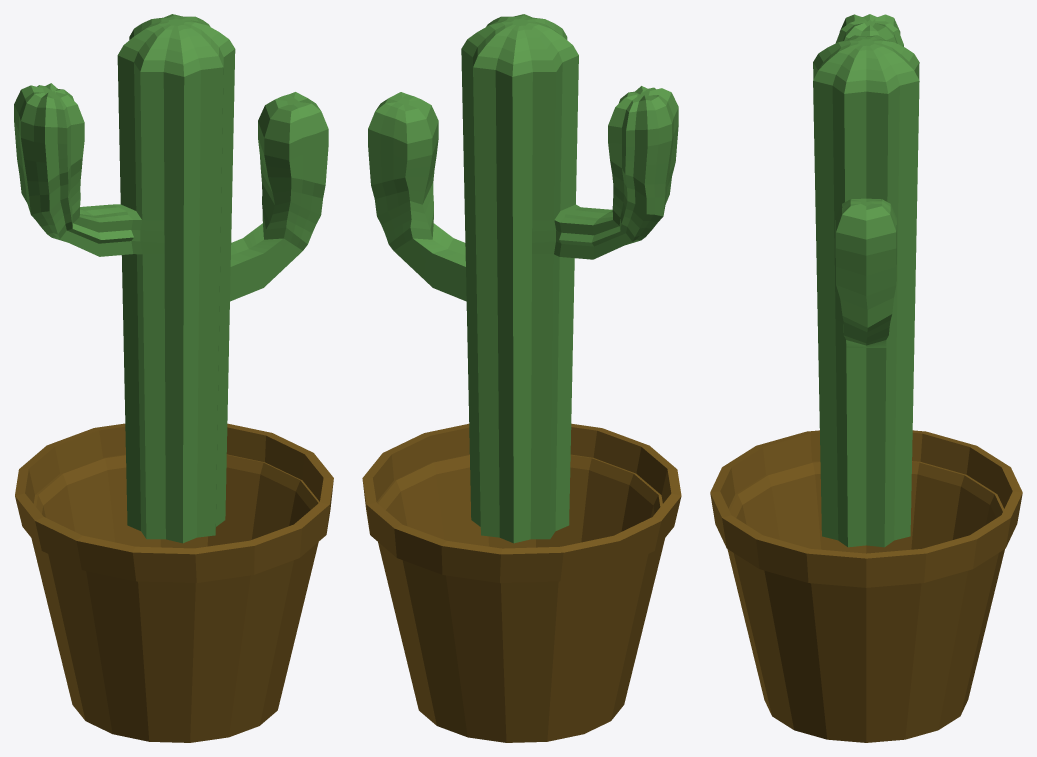
Rendered from cactus2.glb.
3 views of the same model, side by side, from view 1: azimuth 30°, elevation 25°; view 2: azimuth 150°, elevation 25°; view 3: azimuth 270°, elevation 25° (orthographic). The views are drawn at different scales.
Parts seen in each view (by area): view 1: cactus, pot; view 2: cactus, pot; view 3: pot, cactus.
Boxes of the visible parts, bbox=[...] form: cactus: bbox=[14, 14, 328, 543]; pot: bbox=[15, 423, 333, 742]; cactus: bbox=[368, 14, 678, 543]; pot: bbox=[362, 423, 681, 742]; pot: bbox=[710, 430, 1022, 742]; cactus: bbox=[813, 14, 919, 547].
Size of the model in its own units: 6.99 by 15.11 by 6.52.
